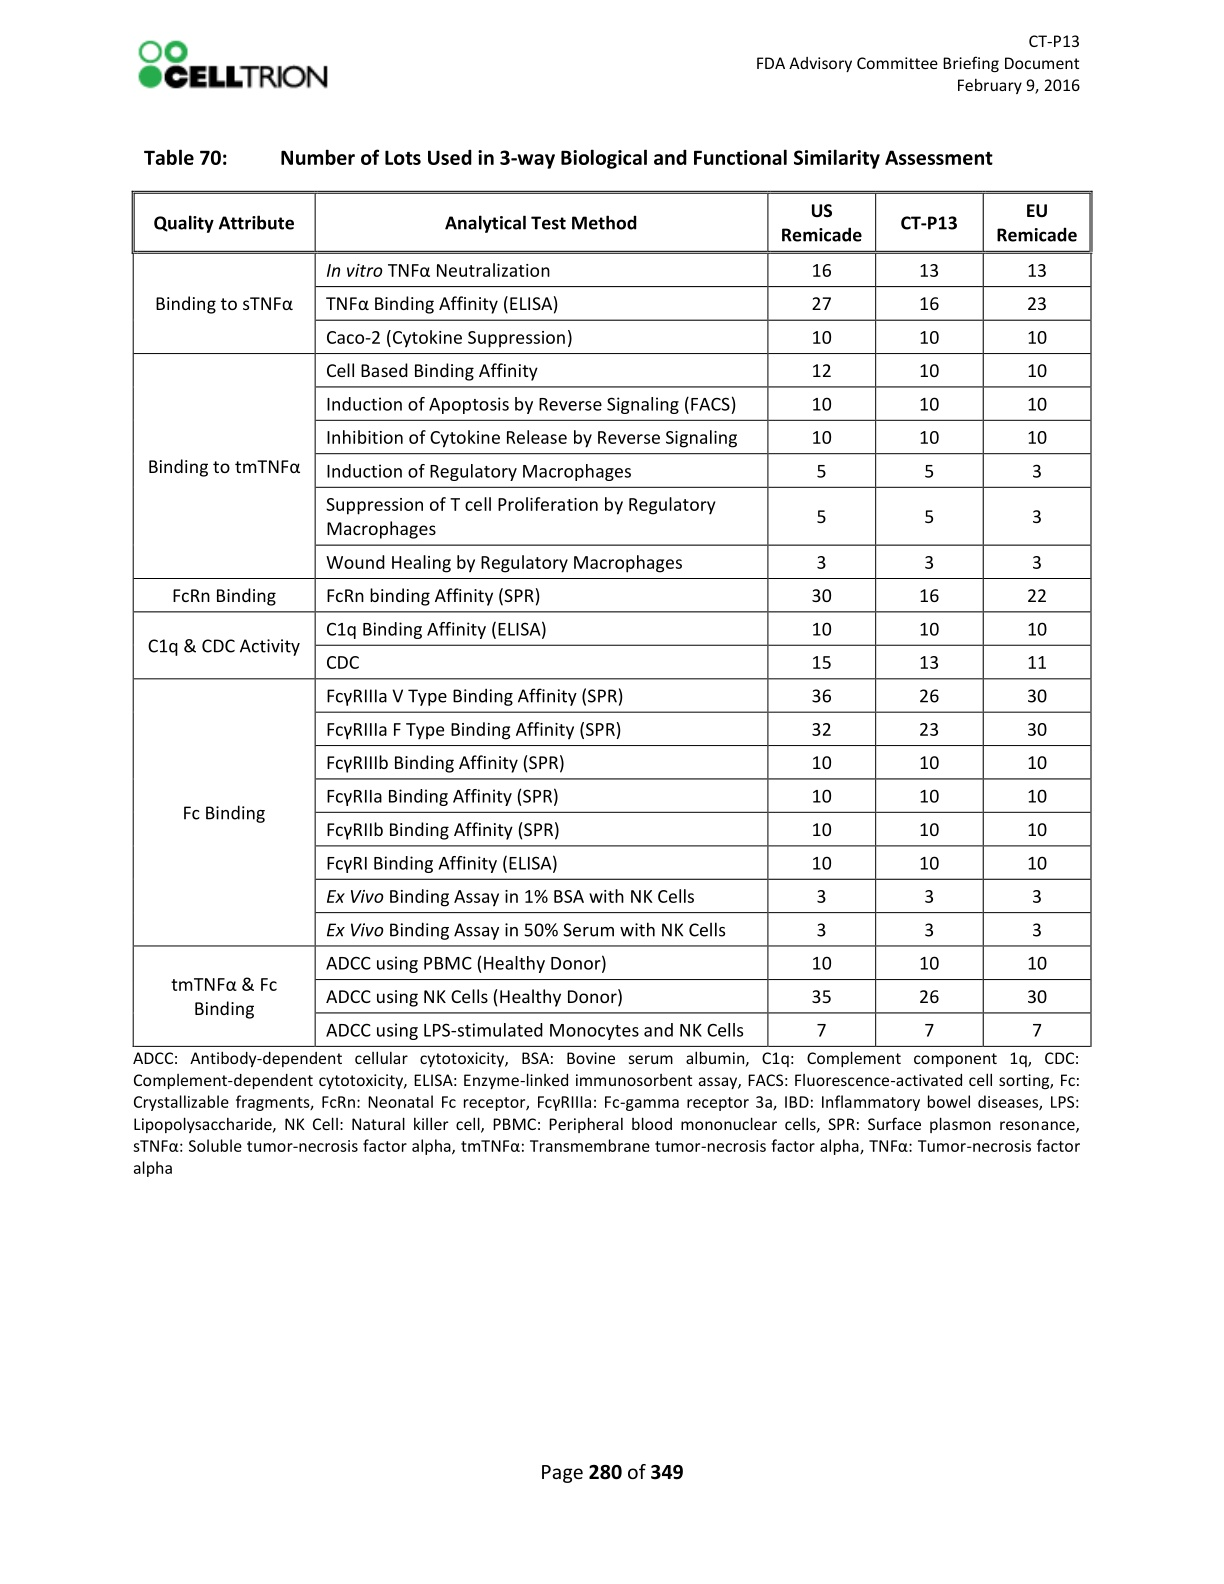merged_cells: (131, 189, 1092, 1048)
